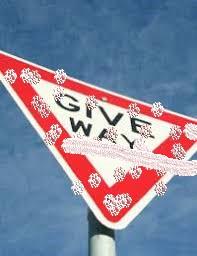giveway: (1, 57, 197, 150), (55, 86, 167, 222), (31, 71, 174, 148)
